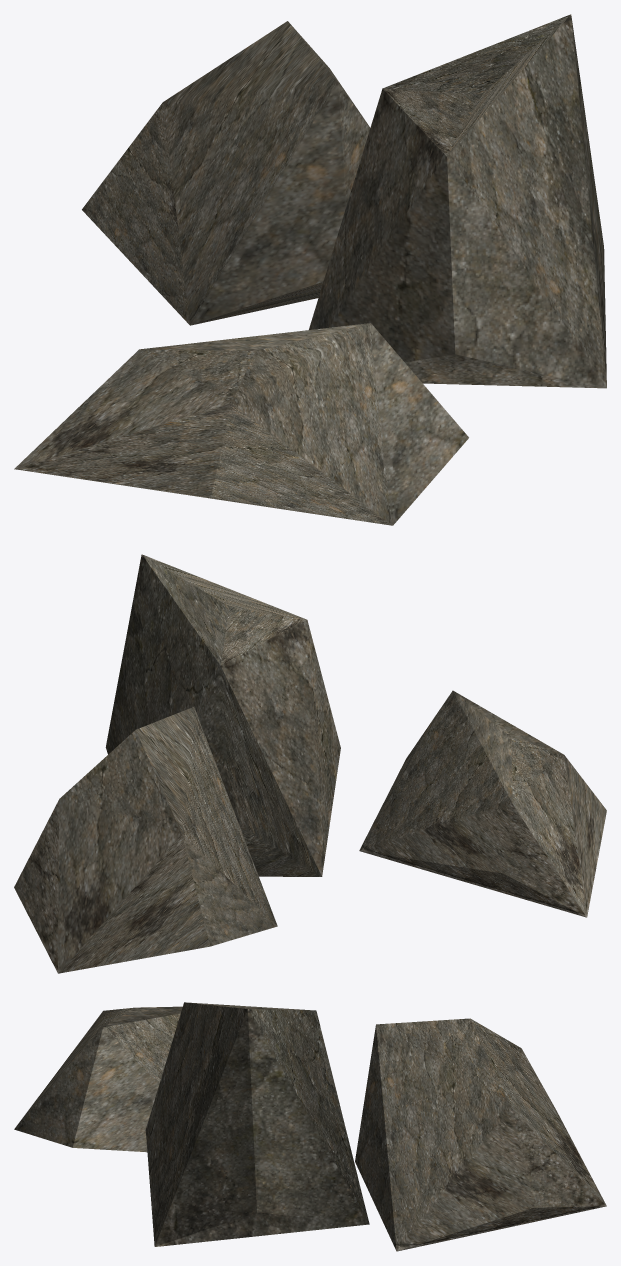
The model's file is mm9_deco_stonedebris01ls.glb.
3 views of the same model, one above another, from view 1: azimuth 30°, elevation 25°; view 2: azimuth 150°, elevation 25°; view 3: azimuth 270°, elevation 25° (orthographic). The views are drawn at different scales.
Parts seen in each view (by area): view 1: Stonedebris01ls; view 2: Stonedebris01ls; view 3: Stonedebris01ls.
Part boxes in pixels (<box>): Stonedebris01ls: <box>14,14,606,525</box>; Stonedebris01ls: <box>14,554,606,973</box>; Stonedebris01ls: <box>14,1002,606,1251</box>.
Bounding box in the file's own units: 1.38 × 0.7165 × 1.56.
Materials: 1 (1 with a texture image).
